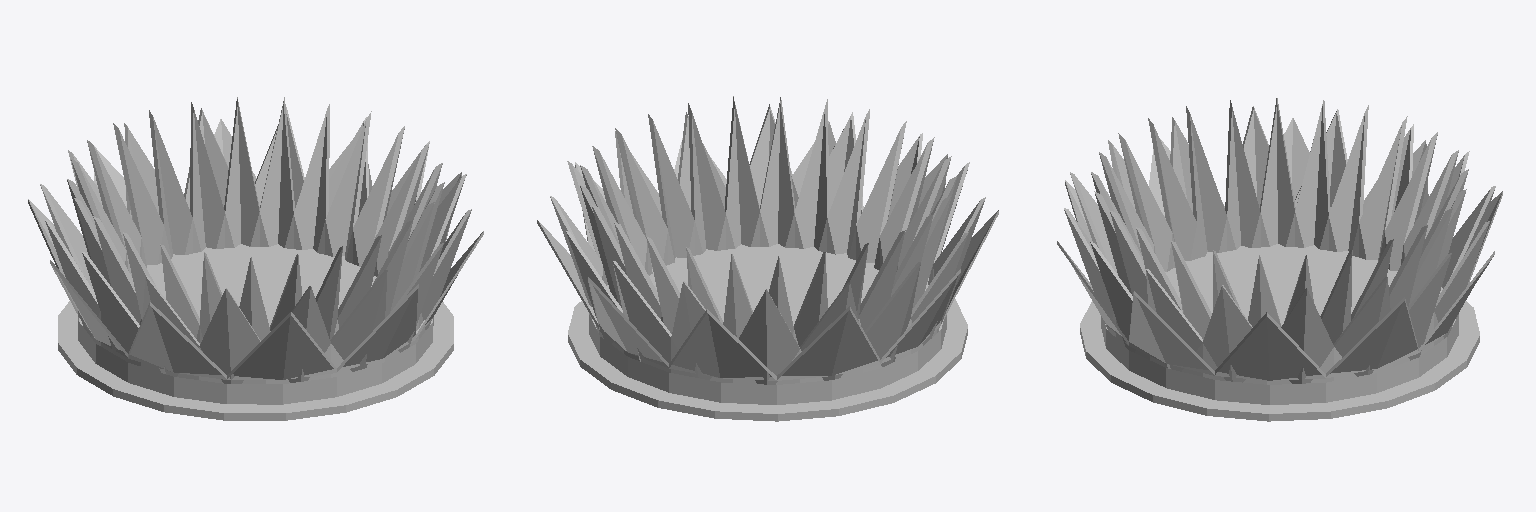
The model's file is portal_abrir_000040.obj.
The picture shows the model from 3 angles: view 1: azimuth 30°, elevation 25°; view 2: azimuth 150°, elevation 25°; view 3: azimuth 270°, elevation 25°; orthographic projection.
Visible parts, largest first — view 1: Cylinder.001, pCylinder1, Cylinder; view 2: Cylinder.001, pCylinder1, Cylinder; view 3: Cylinder.001, pCylinder1, Cylinder.
Part boxes in pixels (x1,y1,x2,y2): Cylinder.001: (67, 97, 444, 343); pCylinder1: (28, 119, 483, 420); Cylinder: (40, 107, 471, 383); Cylinder.001: (580, 96, 956, 346); pCylinder1: (537, 121, 998, 421); Cylinder: (550, 104, 985, 384); Cylinder.001: (1091, 98, 1468, 343); pCylinder1: (1057, 118, 1502, 421); Cylinder: (1064, 106, 1495, 384).
Bounding box in the file's own units: 6.99 × 2.71 × 6.78.